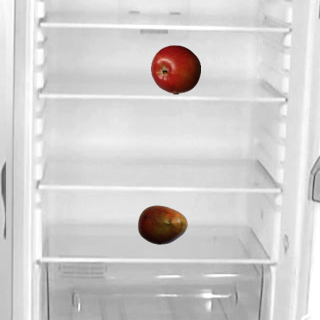Apple Braeburn: (150, 44, 200, 94)
Mango Red: (137, 199, 187, 249)
